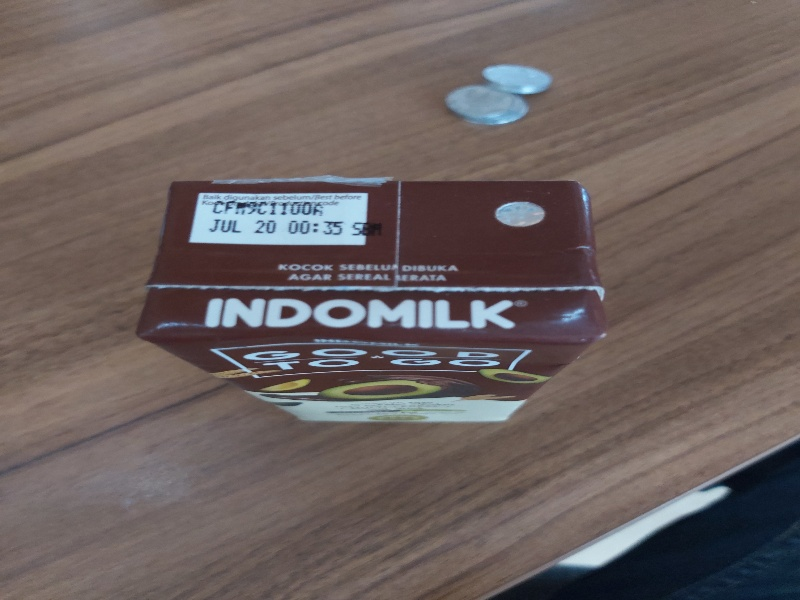cokelat: (133, 177, 609, 428)
